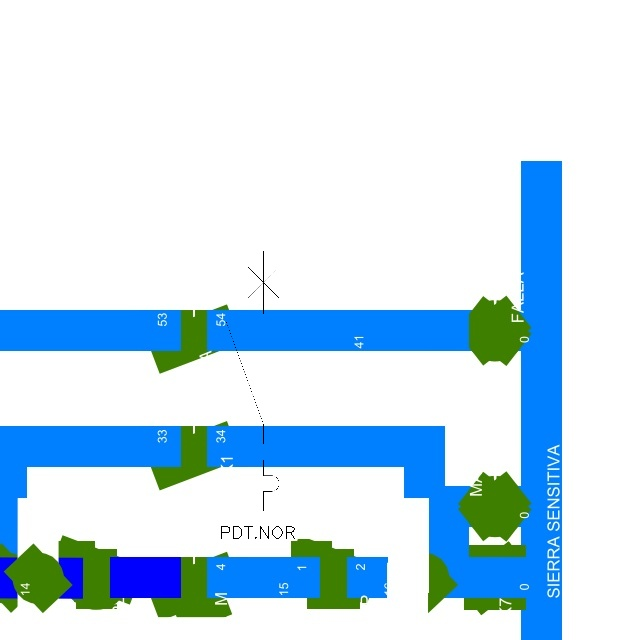interruptor_termomagnetico: (219, 244, 286, 518)
